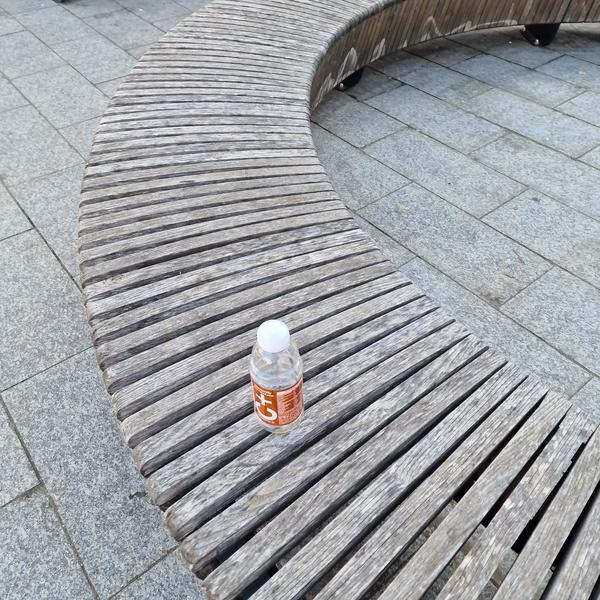plastic_bottle: (247, 318, 306, 436)
